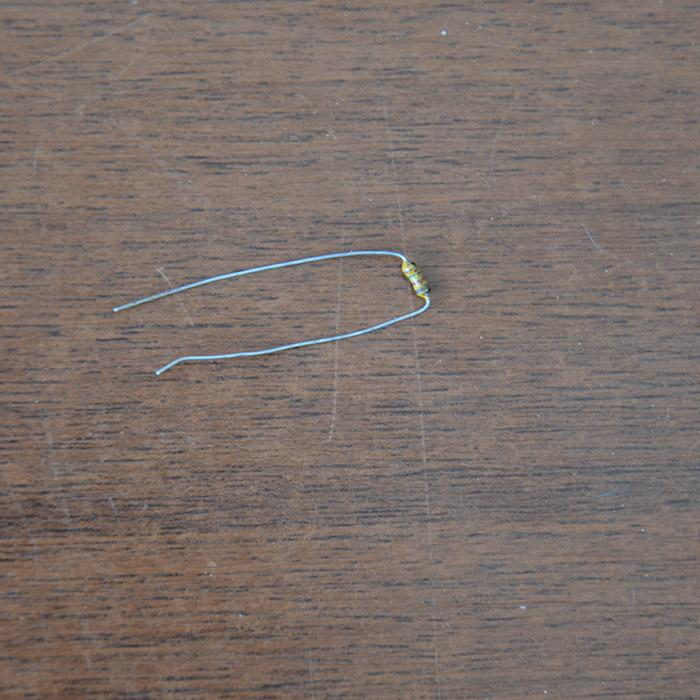resistor: (397, 257, 437, 304)
